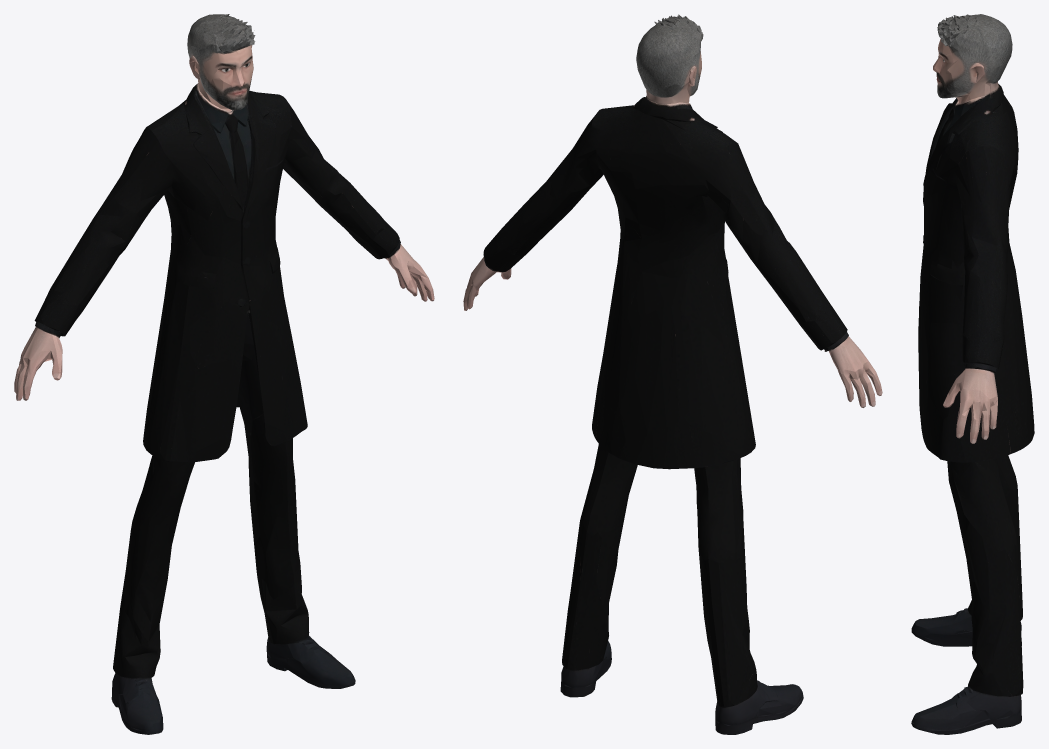
Rendered from pastor.glb.
3 views of the same model, side by side, from view 1: azimuth 30°, elevation 25°; view 2: azimuth 150°, elevation 25°; view 3: azimuth 270°, elevation 25° (orthographic).
Parts seen in each view (by area): view 1: output_unwrapped; view 2: output_unwrapped; view 3: output_unwrapped.
Boxes of the visible parts, bbox=[...] form: output_unwrapped: bbox=[14, 14, 434, 734]; output_unwrapped: bbox=[463, 14, 882, 734]; output_unwrapped: bbox=[911, 14, 1034, 734].
Bounding box in the file's own units: 1.21 × 1.9 × 0.3179.
Materials: 1 (1 with a texture image).
